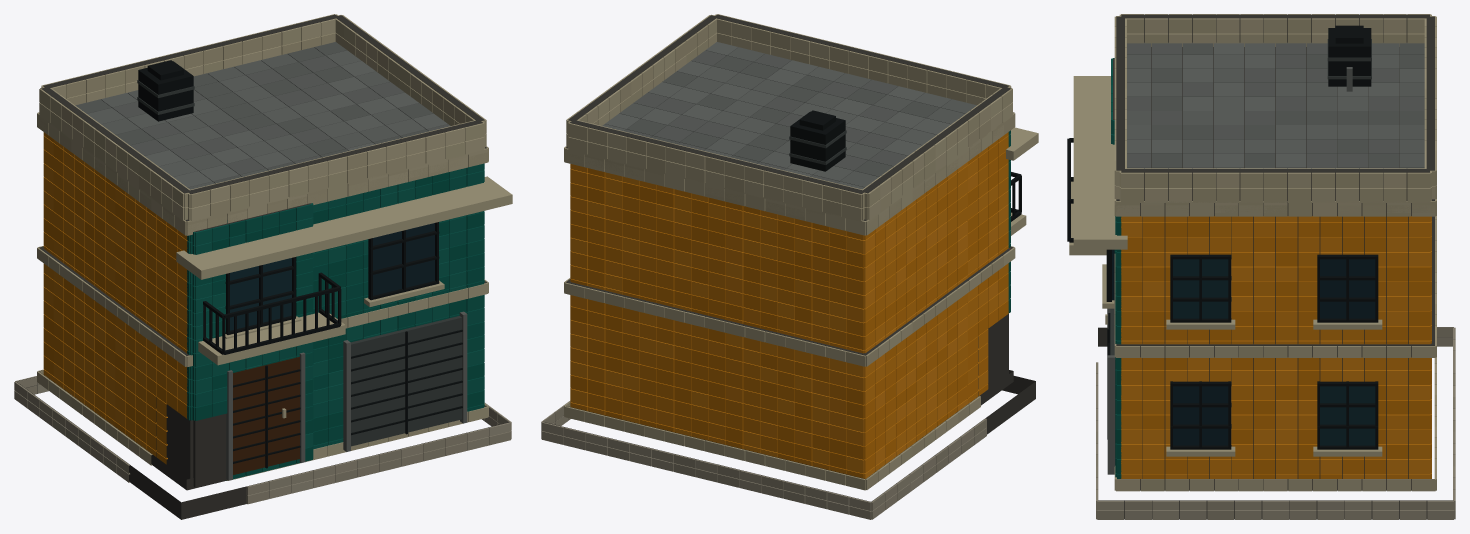
File: SM_StreetFrontage_038.fbx
3 views of the same model, side by side, from view 1: azimuth 30°, elevation 25°; view 2: azimuth 150°, elevation 25°; view 3: azimuth 270°, elevation 25° (orthographic). The views are drawn at different scales.
Visible parts, largest first — view 1: SM_StreetFrontage_038; view 2: SM_StreetFrontage_038; view 3: SM_StreetFrontage_038.
Boxes of the visible parts, x1,y1,x2,y2 form: SM_StreetFrontage_038: [14, 14, 512, 519]; SM_StreetFrontage_038: [541, 14, 1038, 519]; SM_StreetFrontage_038: [1067, 14, 1455, 519].
Size of the model in its own units: 8 by 7.53 by 7.88.
